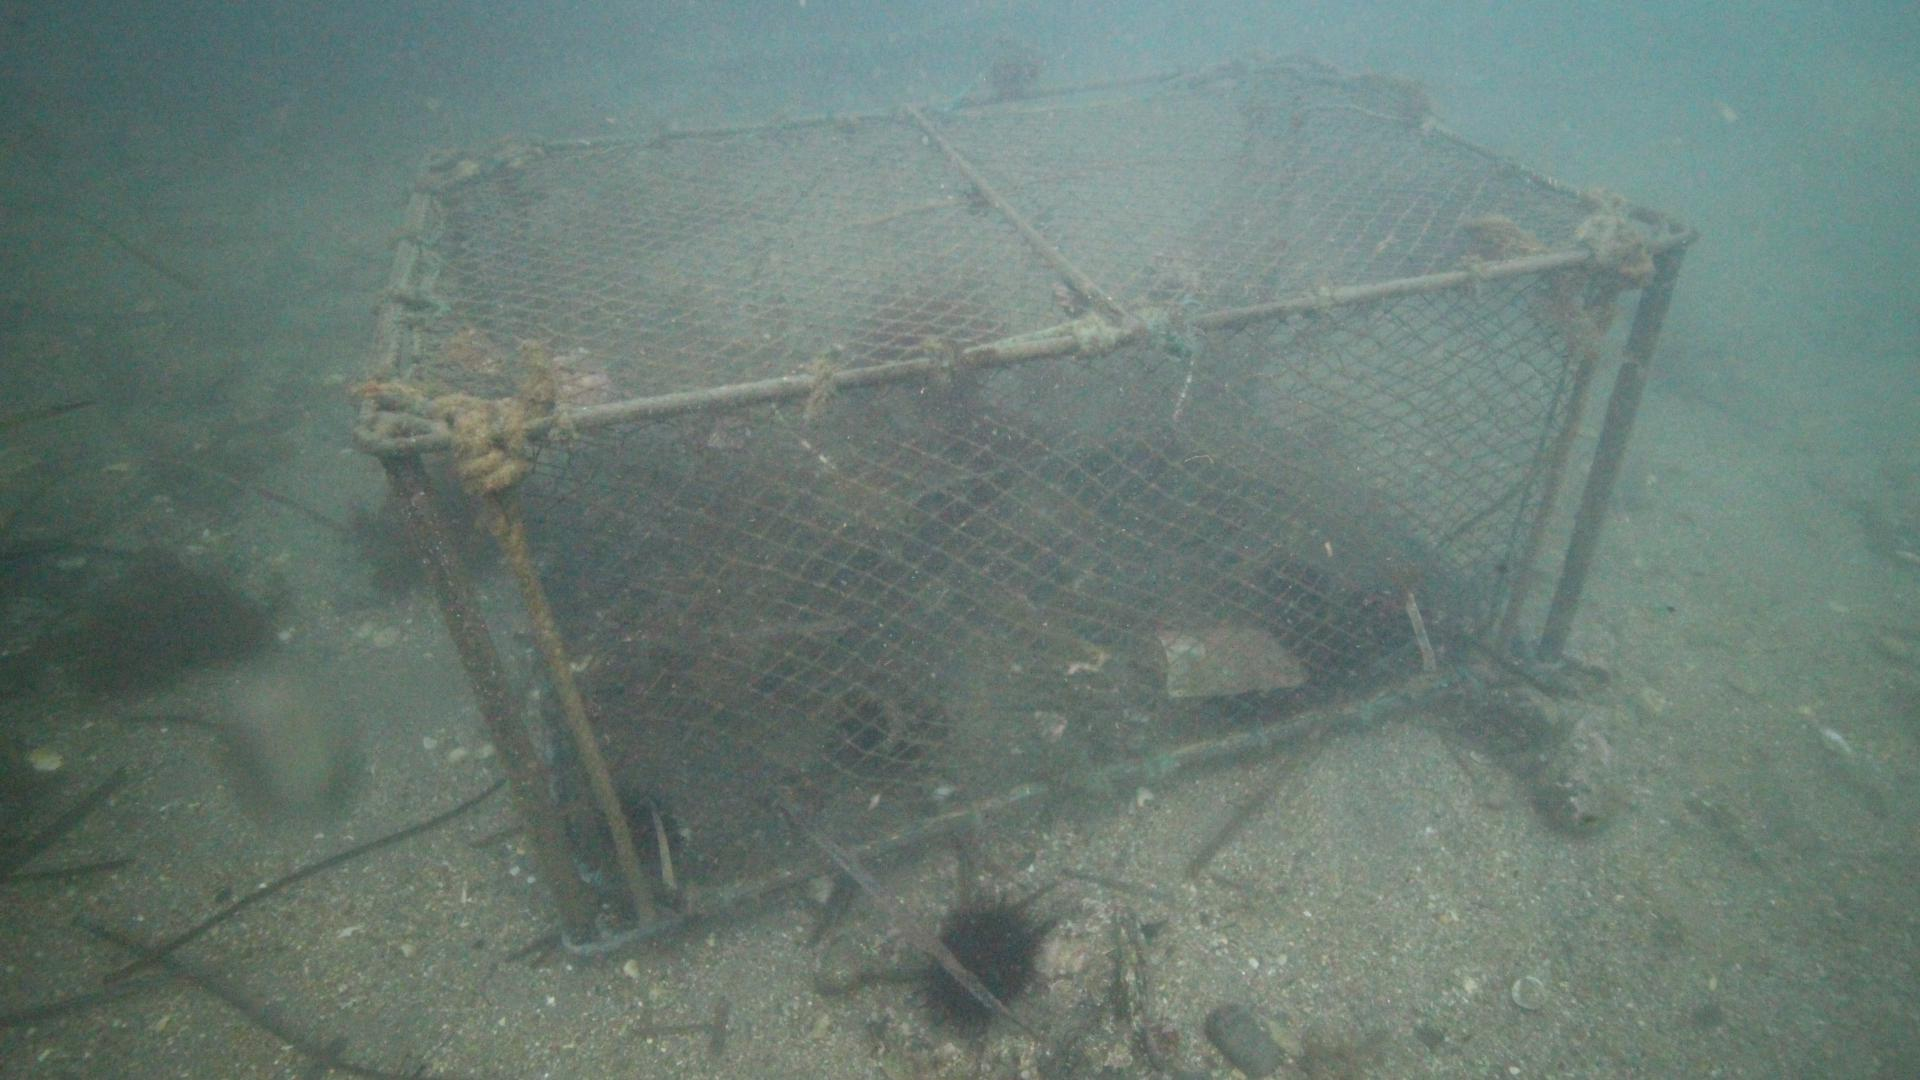rectangular fish trap: (345, 46, 1698, 959)
